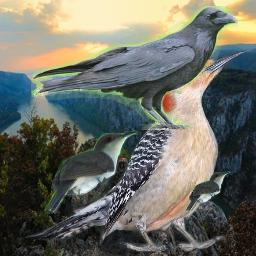Crow: (31, 6, 238, 130)
Cuckoo: (44, 130, 138, 214), (185, 171, 231, 212)
Woodpecker: (23, 46, 250, 254)
